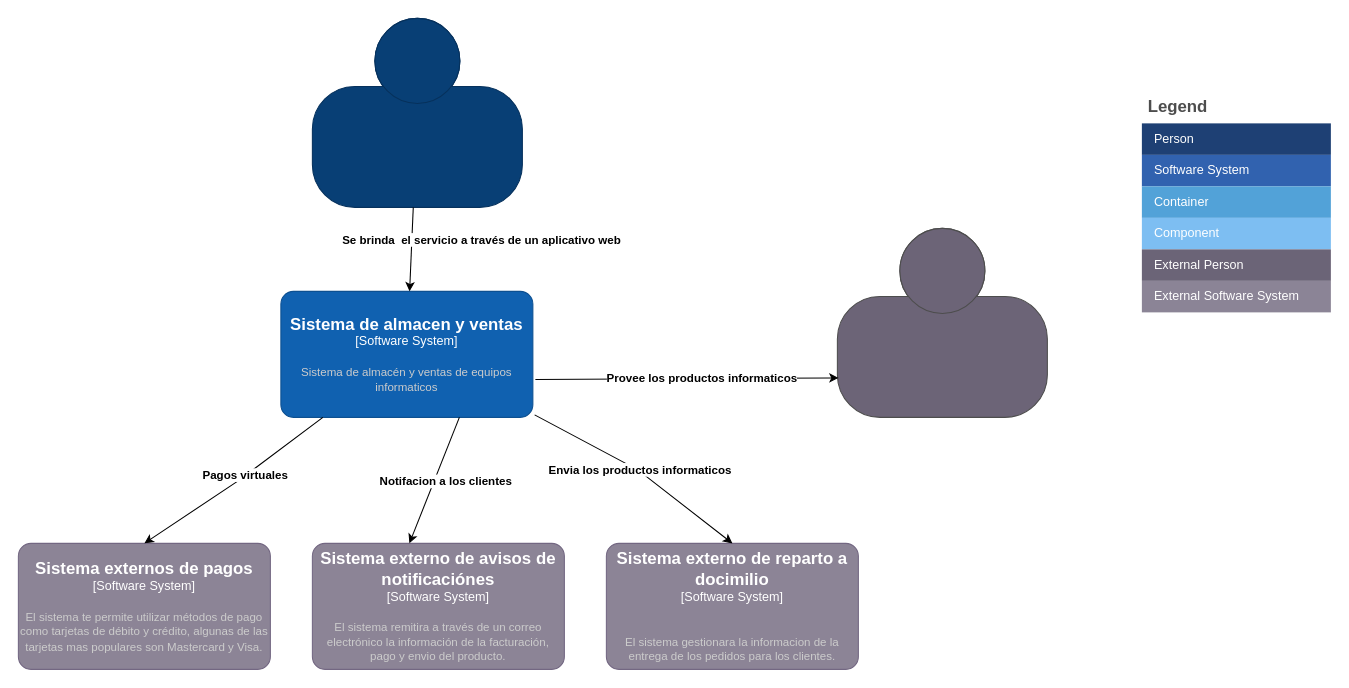
Some shapes in this 1349 by 688 pixel diagram are drawn without their labels. Here are the shapes that lost their labels. From the top down, the centre of each, then its label:
the point at 416,112: Cliente [Person] Persona a que requiere el servicio
the point at 941,322: Proveedor [Person] Empresa que proporciona los equipos financieros
